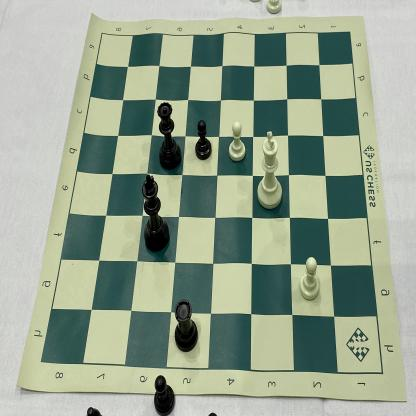black-king: (140, 172, 172, 254)
black-pawn: (192, 116, 216, 162)
black-queen: (155, 99, 184, 176)
black-rook: (172, 296, 199, 354)
white-king: (255, 128, 288, 213)
white-pawn: (296, 254, 324, 302), (226, 120, 249, 163)
